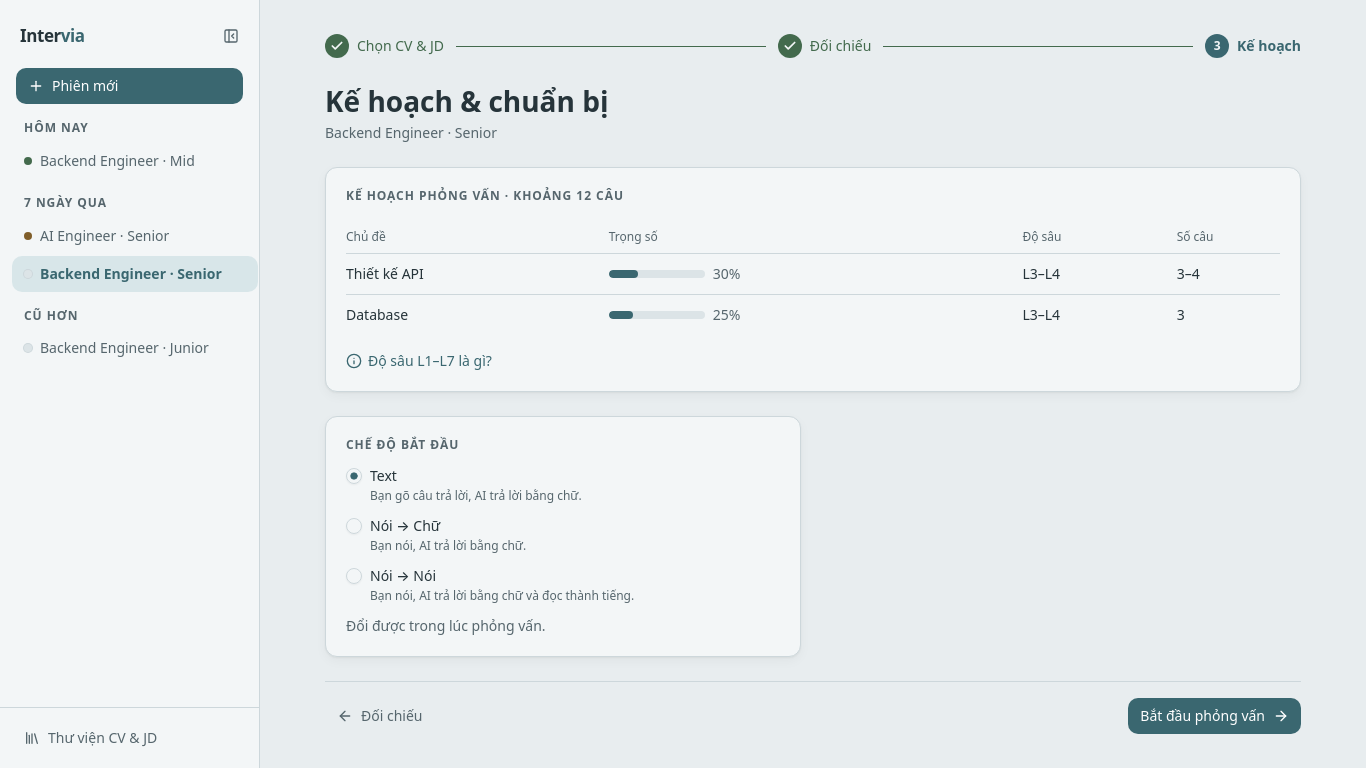
SessionPlanPage (UI-5.4) › shows the mic check only for spoken modes
Check: the radio button named "Text" next to "Text" is checked, box [346,468,362,484]
Check: the text "Đổi được trong lúc phỏng vấn." is shown, box [346,616,546,635]
Click the radio button named "Nói → Nói" next to "Nói → Nói": (354, 576) [346,568,362,584]
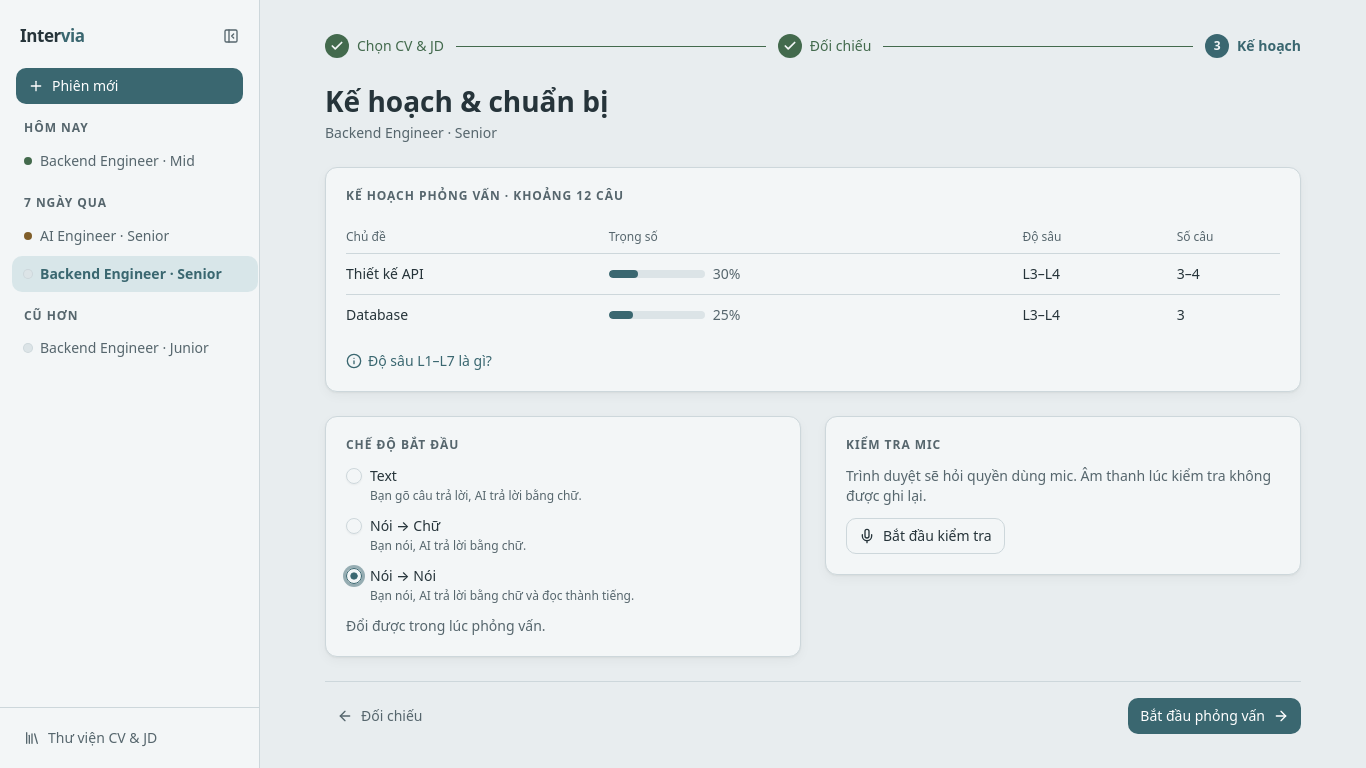
Check: the heading "Kiểm tra mic" is shown, box [846,436,941,453]
